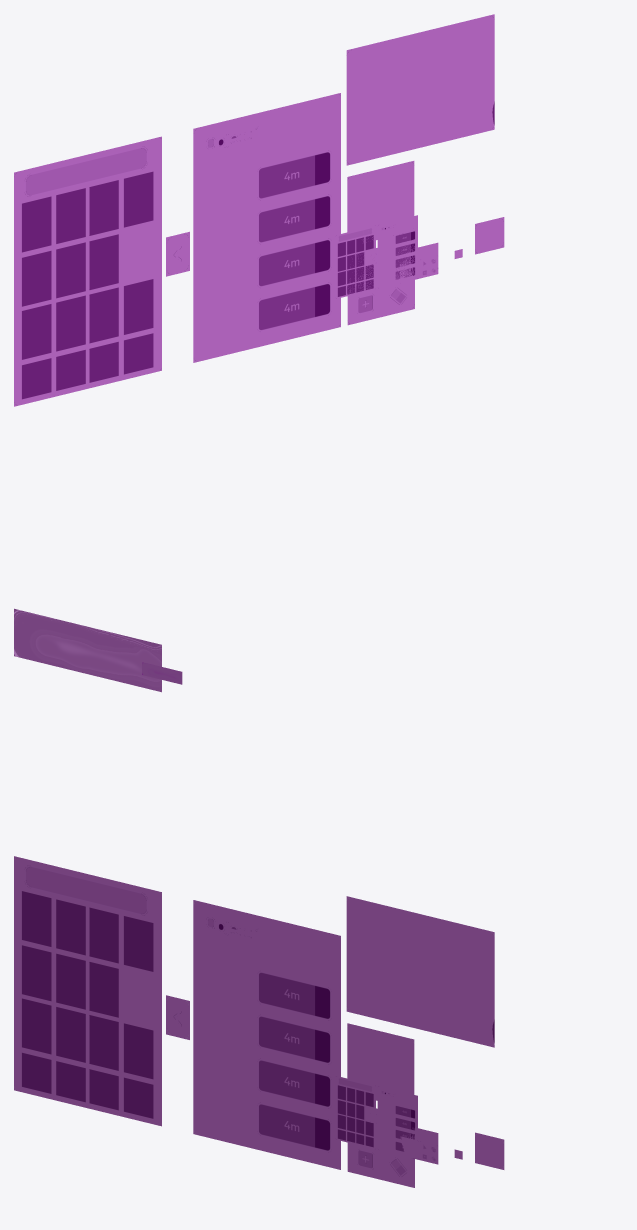
Rendered from controls.glb.
3 views of the same model, one above another, from view 1: azimuth 30°, elevation 25°; view 2: azimuth 150°, elevation 25°; view 3: azimuth 330°, elevation 25° (orthographic).
Parts seen in each view (by area): view 1: base, gui-properties-ext, gui-properties; view 2: base; view 3: base, gui-properties-ext, gui-properties, gui-add.
Boxes of the visible parts, bbox=[...] form: base: bbox=[14, 14, 504, 406]; gui-properties-ext: bbox=[335, 216, 462, 298]; gui-properties: bbox=[370, 215, 462, 288]; base: bbox=[14, 608, 161, 692]; base: bbox=[14, 856, 504, 1187]; gui-properties-ext: bbox=[335, 1076, 424, 1149]; gui-properties: bbox=[370, 1112, 434, 1156]; gui-add: bbox=[400, 1136, 437, 1164].
Bounding box in the file's own units: 1.81 × 0.783 × 1.27e-07.
1 material, 1 textured.
